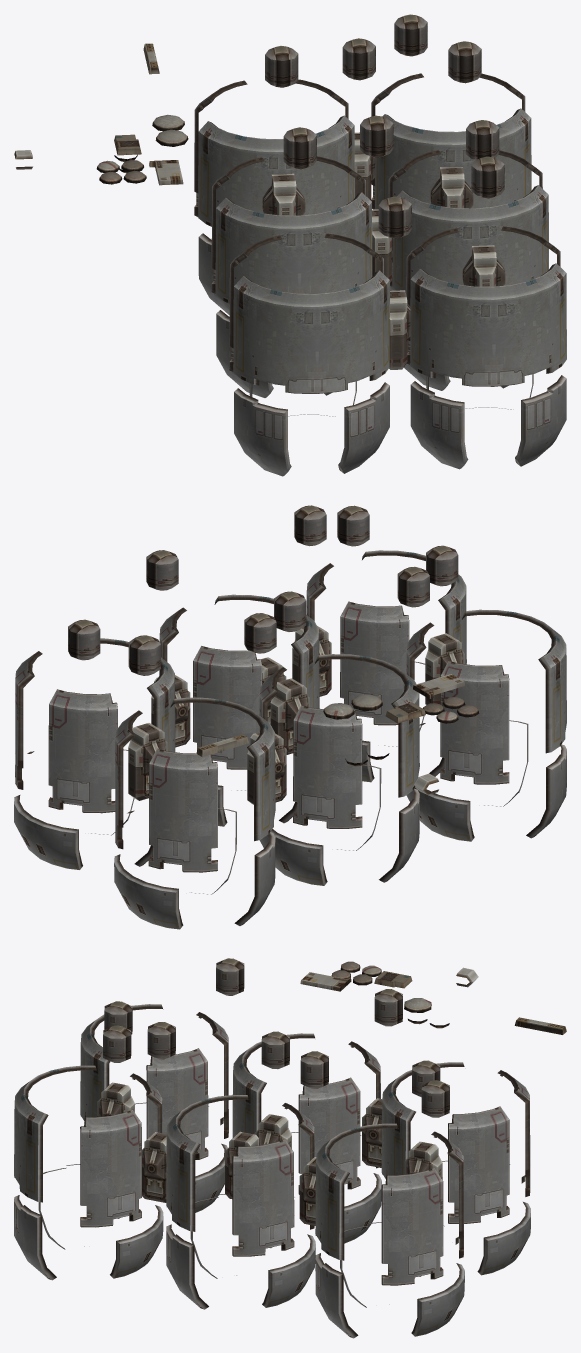
File: prop_static_tr1_container_01_02_0.glb
The picture shows the model from 3 angles, top to bottom: view 1: azimuth 30°, elevation 25°; view 2: azimuth 150°, elevation 25°; view 3: azimuth 270°, elevation 25°; orthographic projection. The views are drawn at different scales.
Visible parts, largest first — view 1: tr1_container_01_02_mat01a_LOD0, tr1_container_01_02_mat01b_LOD0, tr1_container_01_02_mat01d_LOD0; view 2: tr1_container_01_02_mat01a_LOD0, tr1_container_01_02_mat01b_LOD0, tr1_container_01_02_mat01d_LOD0; view 3: tr1_container_01_02_mat01a_LOD0, tr1_container_01_02_mat01b_LOD0, tr1_container_01_02_mat01d_LOD0.
Boxes of the visible parts, x1=… form: tr1_container_01_02_mat01a_LOD0: x1=14, y1=14, x2=531, y2=476; tr1_container_01_02_mat01b_LOD0: x1=388, y1=150, x2=566, y2=469; tr1_container_01_02_mat01d_LOD0: x1=194, y1=79, x2=354, y2=314; tr1_container_01_02_mat01a_LOD0: x1=14, y1=505, x2=566, y2=885; tr1_container_01_02_mat01b_LOD0: x1=159, y1=550, x2=466, y2=826; tr1_container_01_02_mat01d_LOD0: x1=114, y1=697, x2=275, y2=929; tr1_container_01_02_mat01a_LOD0: x1=80, y1=958, x2=566, y2=1338; tr1_container_01_02_mat01b_LOD0: x1=14, y1=1065, x2=315, y2=1309; tr1_container_01_02_mat01d_LOD0: x1=381, y1=1062, x2=530, y2=1276.
Size of what is drawn, in the model's own units: 8.92 by 5.26 by 10.18.
Materials: 3 (3 with a texture image).
